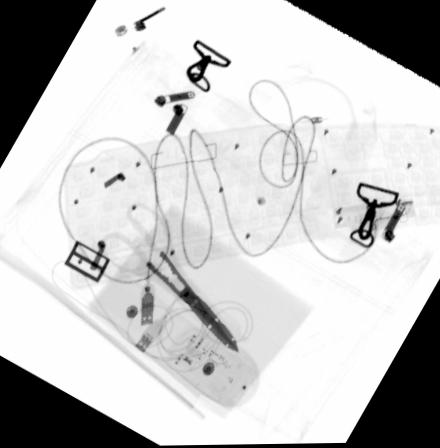Scissors: (97, 201, 237, 352)
